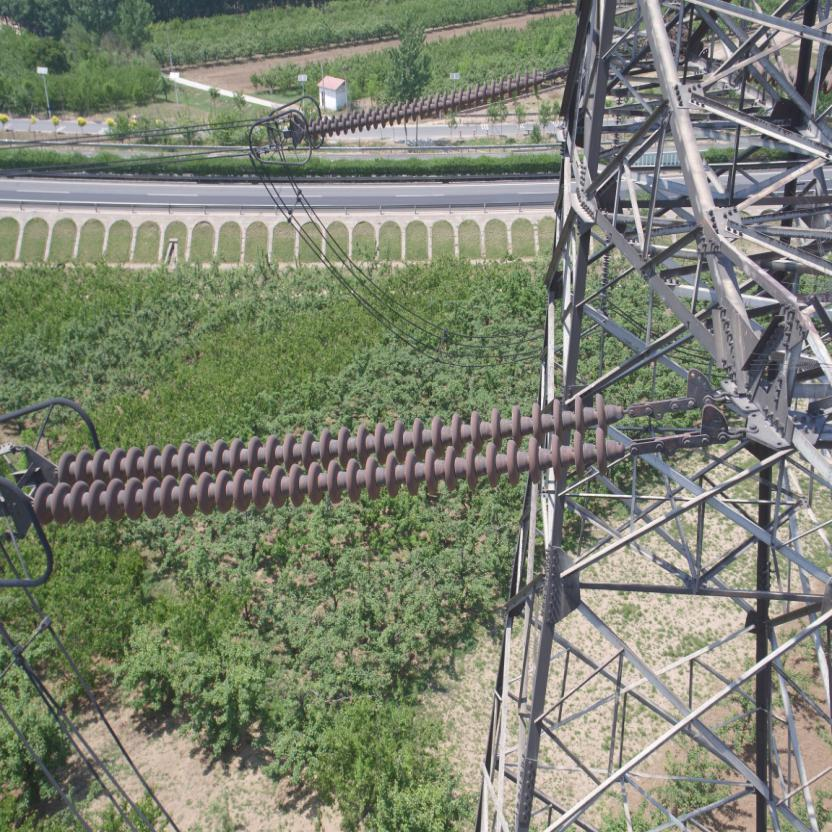insulator: (20, 384, 665, 529), (298, 60, 556, 142)
